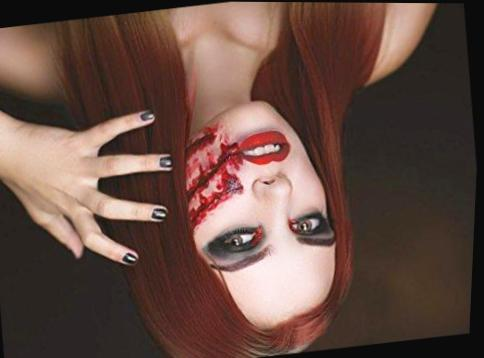Fire: (187, 123, 245, 229)
